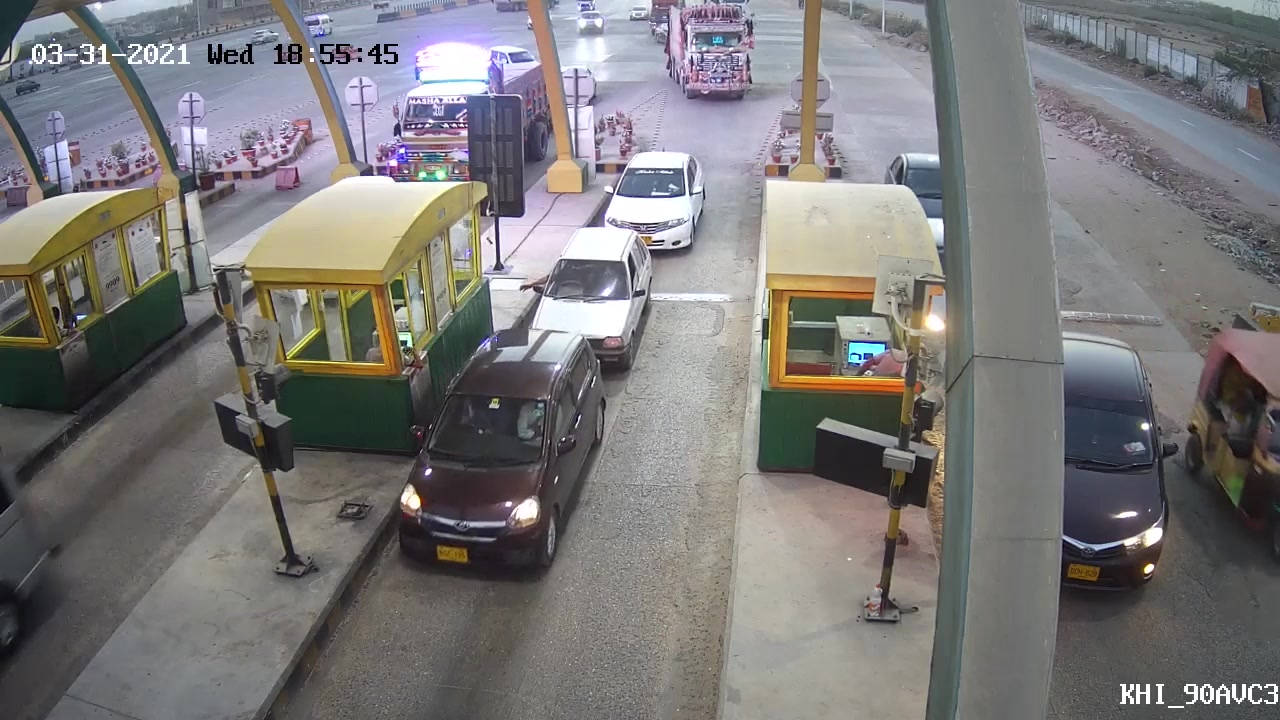F1: (389, 329, 609, 578), (525, 221, 657, 377)
